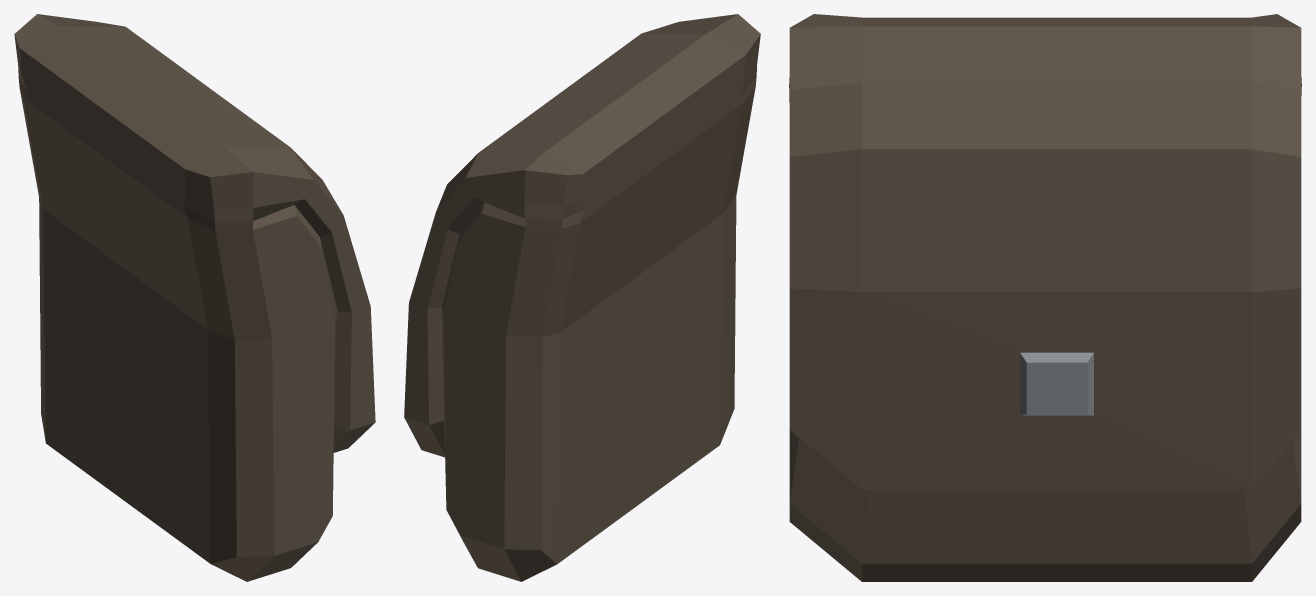
Rendered from Chr_HipsAttachment_10_Static.fbx.
3 renders of one model, left to right at view 1: azimuth 30°, elevation 25°; view 2: azimuth 150°, elevation 25°; view 3: azimuth 270°, elevation 25°, orthographic. The views are drawn at different scales.
Visible parts, largest first — view 1: Chr_HipsAttachment_10_Static; view 2: Chr_HipsAttachment_10_Static; view 3: Chr_HipsAttachment_10_Static.
Part boxes in pixels (x1,y1,x2,y2): Chr_HipsAttachment_10_Static: (14, 14, 375, 581); Chr_HipsAttachment_10_Static: (404, 14, 760, 581); Chr_HipsAttachment_10_Static: (789, 14, 1301, 581).
Size of the model in its own units: 0.0999 by 0.2467 by 0.2201.
